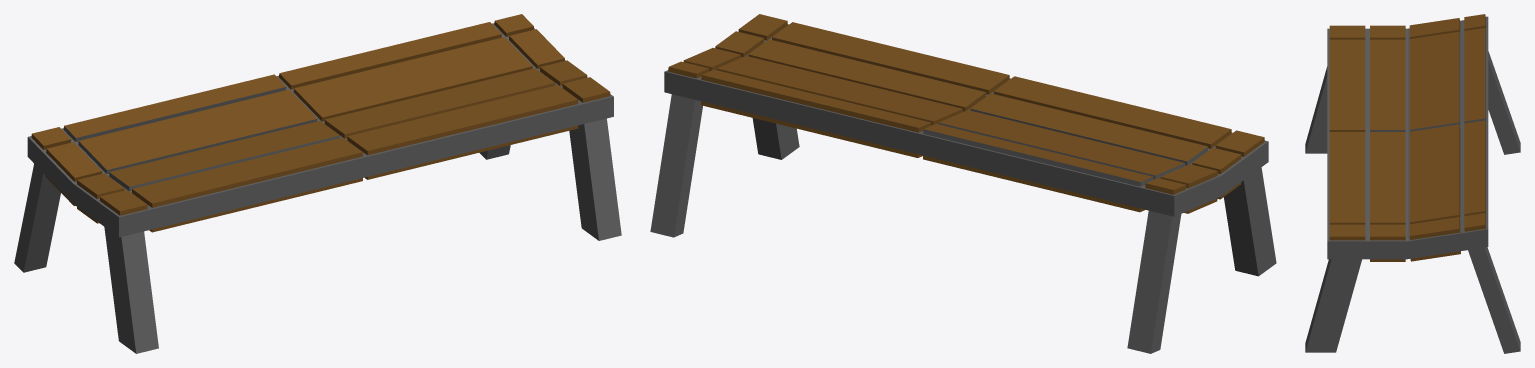
Rendered from Wooden Bench 1.fbx.
The picture shows the model from 3 angles, left to right: view 1: azimuth 30°, elevation 25°; view 2: azimuth 150°, elevation 25°; view 3: azimuth 270°, elevation 25°; orthographic projection. The views are drawn at different scales.
Visible parts, largest first — view 1: Wooden Bench 1; view 2: Wooden Bench 1; view 3: Wooden Bench 1.
Boxes of the visible parts, left/top/right/bottom form: Wooden Bench 1: left=14, top=14, right=621, bottom=353; Wooden Bench 1: left=650, top=14, right=1276, bottom=353; Wooden Bench 1: left=1305, top=14, right=1520, bottom=353.
Size of the model in its own units: 1.66 by 0.7098 by 0.4738.
